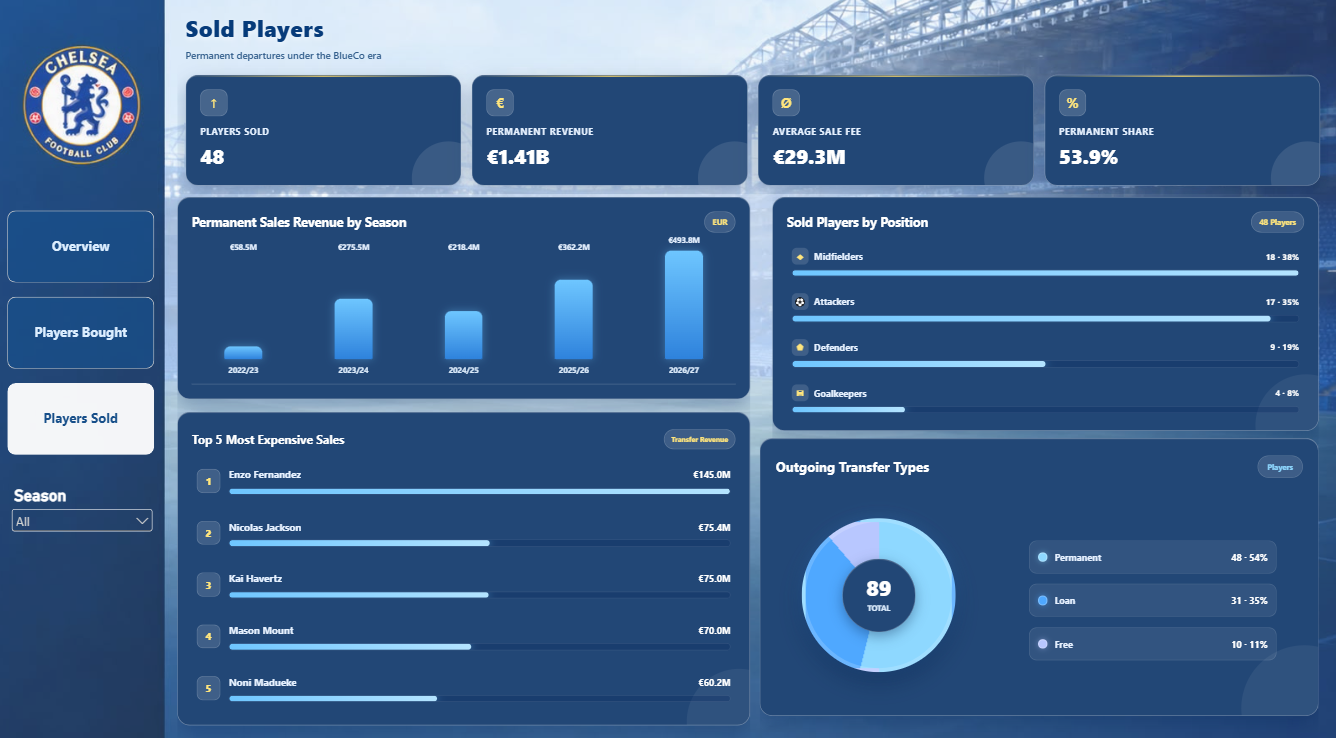

What the dashboard file says about the page in this screenshot:
{"tool":"powerbi","page":{"name":"Players Sold","canvas":[1920,1080],"ordinal":2},"visuals":[{"type":"pageNavigator","box":[16.1,310.7,210,350],"z":0},{"type":"htmlContent443BE3AD55E043BF878BED274D3A6855","fields":{"content":["Measures (2).Sold Players Cards HTML"]},"box":[242.9,0,1676.8,348.2],"z":1000},{"type":"htmlContent443BE3AD55E043BF878BED274D3A6855","fields":{"content":["Measures (2).Sold Revenue by Season HTML"]},"box":[243.7,276.7,850.8,429.5],"z":2000},{"type":"htmlContent443BE3AD55E043BF878BED274D3A6855","fields":{"content":["Measures (2).Sold Players by Position HTML"]},"box":[1092.9,276.8,812.5,383.9],"z":3000},{"type":"htmlContent443BE3AD55E043BF878BED274D3A6855","fields":{"content":["Measures (2).Top 5 Sold Players HTML"]},"box":[242.9,583.9,850,496.4],"z":4000},{"type":"htmlContent443BE3AD55E043BF878BED274D3A6855","fields":{"content":["Measures (2).Outgoing Transfer Types Pie HTML"]},"box":[1075,621.4,830.4,458.9],"z":5000},{"type":"slicer","title":"اا","fields":{"Values":["TransfersTable.Season"]},"box":[17.9,703.6,210.7,94.6],"z":5001}]}

Visuals, with their boxes on the page's 1920x1080 design canvas (x1, y1, x2, y2). These are canvas units, not pixel positions in the 1336x738 screenshot, which may show the page scaled, cropped or inside an application window:
pageNavigator: (16,311,226,661)
htmlContent443BE3AD55E043BF878BED274D3A6855 - Measures (2).Sold Players Cards HTML: (243,0,1920,348)
htmlContent443BE3AD55E043BF878BED274D3A6855 - Measures (2).Sold Revenue by Season HTML: (244,277,1094,706)
htmlContent443BE3AD55E043BF878BED274D3A6855 - Measures (2).Sold Players by Position HTML: (1093,277,1905,661)
htmlContent443BE3AD55E043BF878BED274D3A6855 - Measures (2).Top 5 Sold Players HTML: (243,584,1093,1080)
htmlContent443BE3AD55E043BF878BED274D3A6855 - Measures (2).Outgoing Transfer Types Pie HTML: (1075,621,1905,1080)
"اا" slicer: (18,704,229,798)
